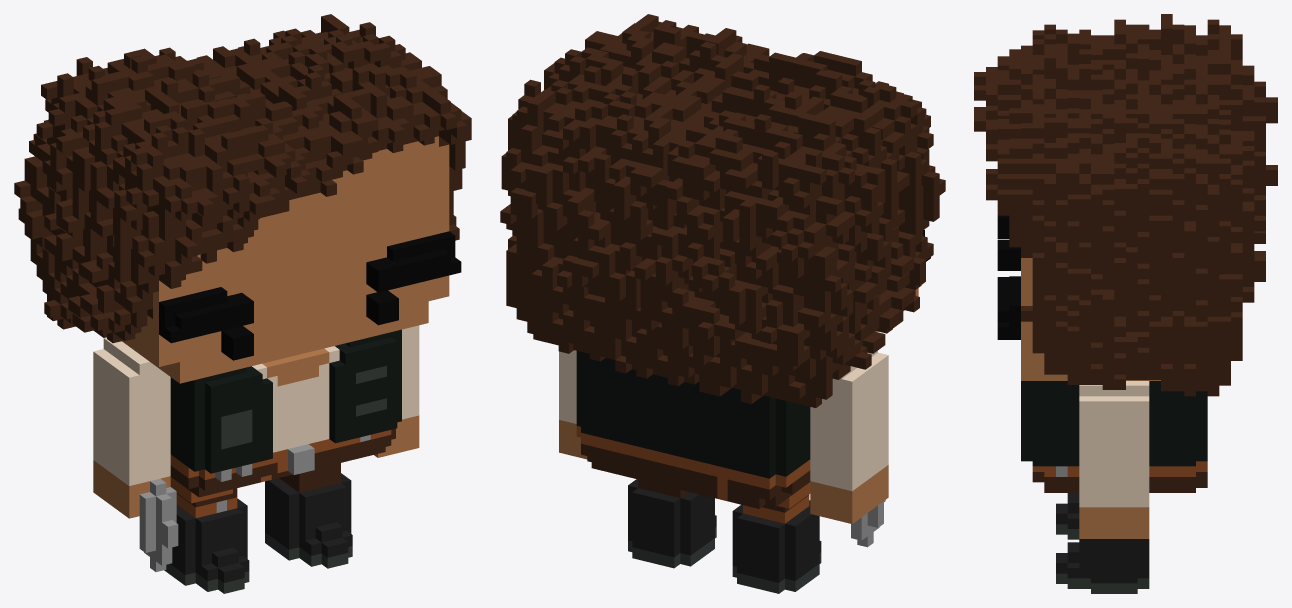
Rendered from asset.glb.
3 views of the same model, side by side, from view 1: azimuth 30°, elevation 25°; view 2: azimuth 150°, elevation 25°; view 3: azimuth 270°, elevation 25° (orthographic). The views are drawn at different scales.
Visible parts, largest first — view 1: Han solo; view 2: Han solo; view 3: Han solo.
Boxes of the visible parts, x1,y1,x2,y2 form: Han solo: [14, 14, 471, 593]; Han solo: [500, 14, 945, 593]; Han solo: [974, 14, 1277, 593].
Size of the model in its own units: 3.4 by 4.5 by 2.6.
Materials: 1 (1 with a texture image).
